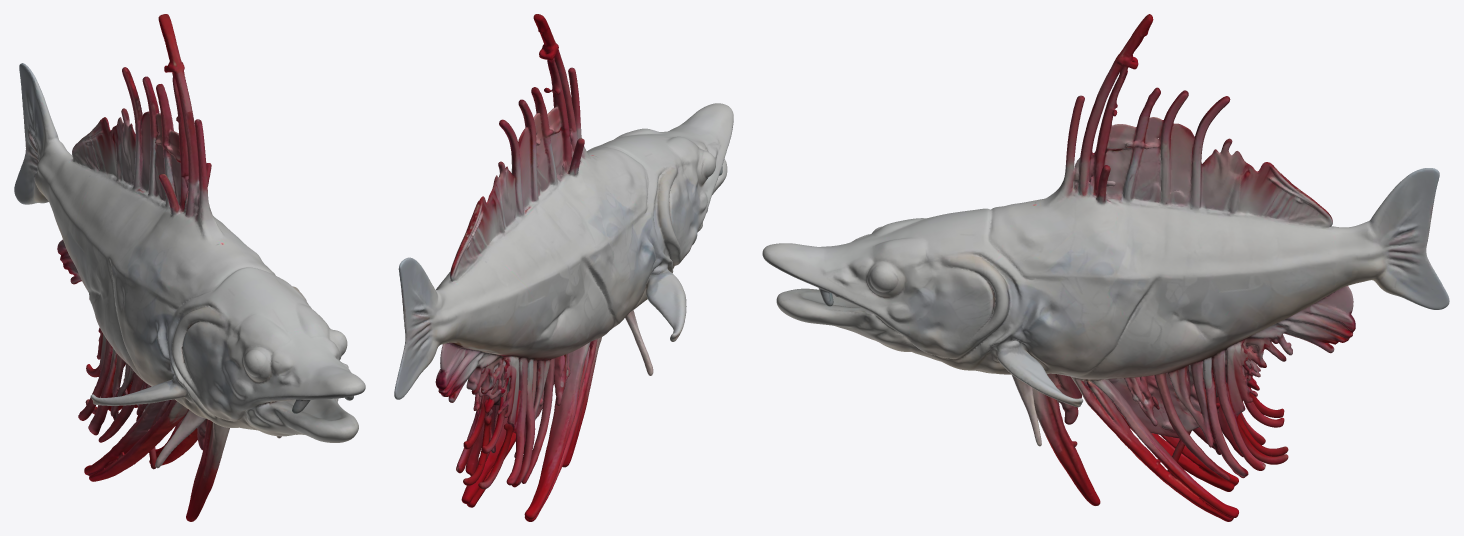
File: oarY_4.glb
3 renders of one model, left to right at view 1: azimuth 30°, elevation 25°; view 2: azimuth 150°, elevation 25°; view 3: azimuth 270°, elevation 25°, orthographic. The views are drawn at different scales.
Parts seen in each view (by area): view 1: tripo_node_75b30821-ea83-471d-8214-24eedc42600d; view 2: tripo_node_75b30821-ea83-471d-8214-24eedc42600d; view 3: tripo_node_75b30821-ea83-471d-8214-24eedc42600d.
Part boxes in pixels (x1,y1,x2,y2): tripo_node_75b30821-ea83-471d-8214-24eedc42600d: (14, 14, 365, 521); tripo_node_75b30821-ea83-471d-8214-24eedc42600d: (394, 14, 733, 521); tripo_node_75b30821-ea83-471d-8214-24eedc42600d: (762, 14, 1449, 521).
Bounding box in the file's own units: 0.3641 × 0.7889 × 1.
1 material, 1 textured.
